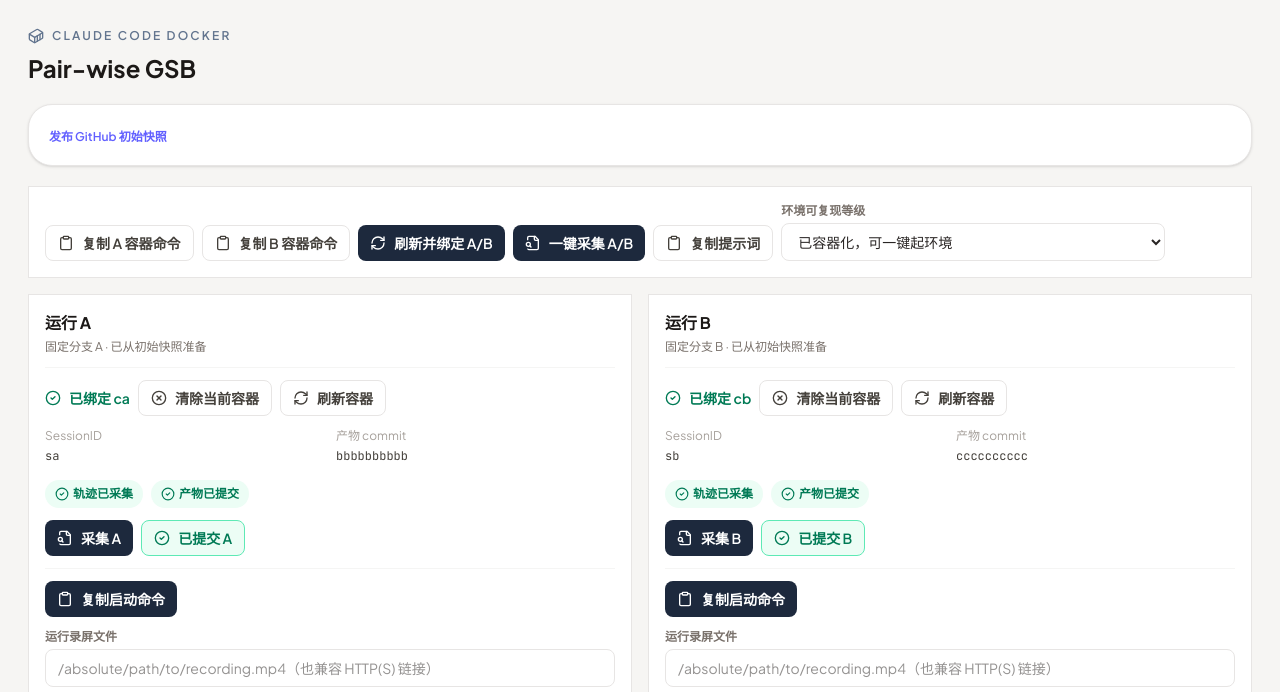
it: AnnotationWorkspace › captures and commits both sides from the single A/B action
The width and height of the screenshot is (1280, 692).
Click the button "一键采集 A/B": click(579, 243) [513,225,645,261]
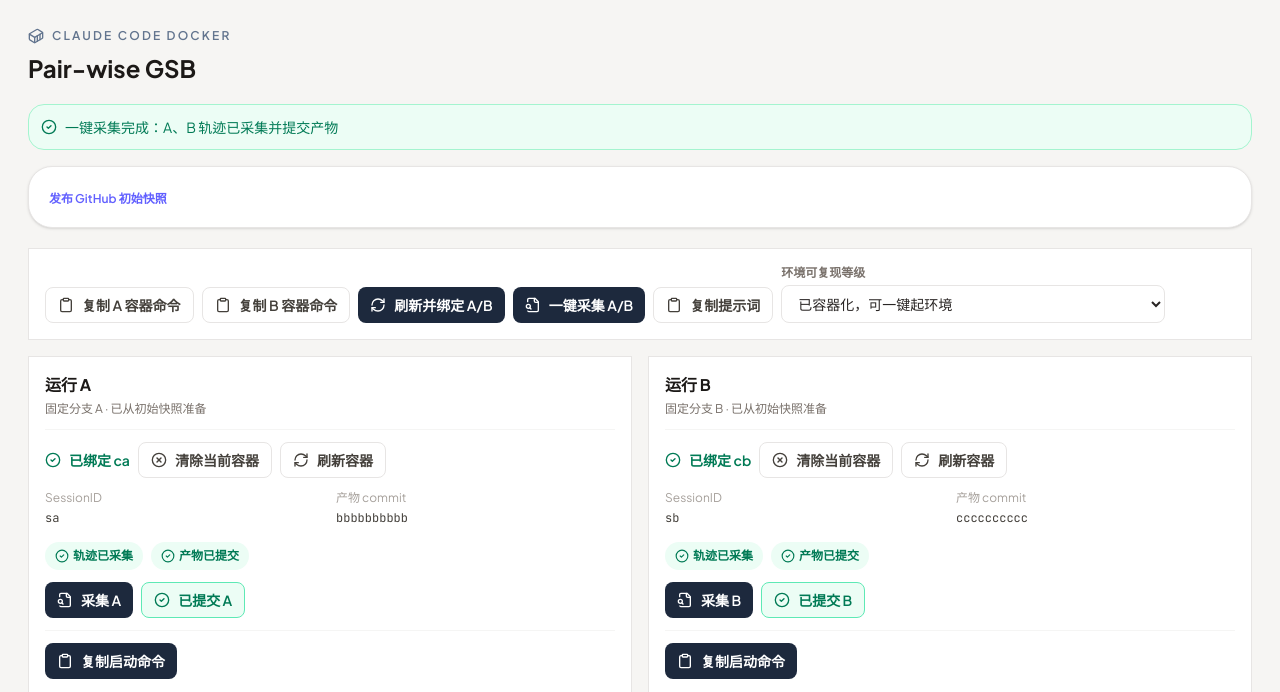
Expected: the text "一键采集完成：A、B 轨迹已采集并提交产物" is shown, [28,104,1252,150]
